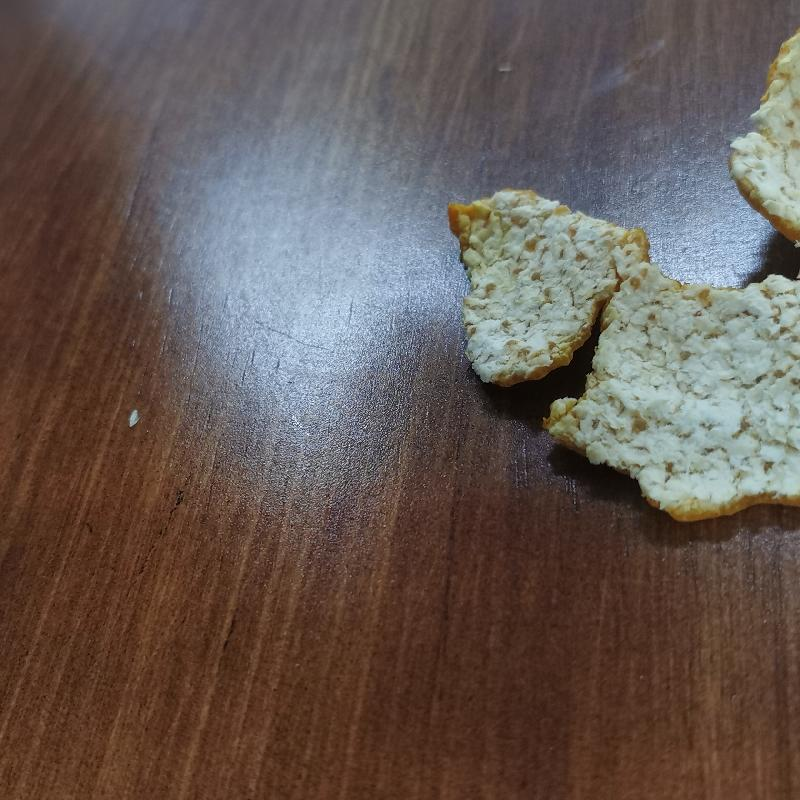orange: (442, 38, 800, 529)
